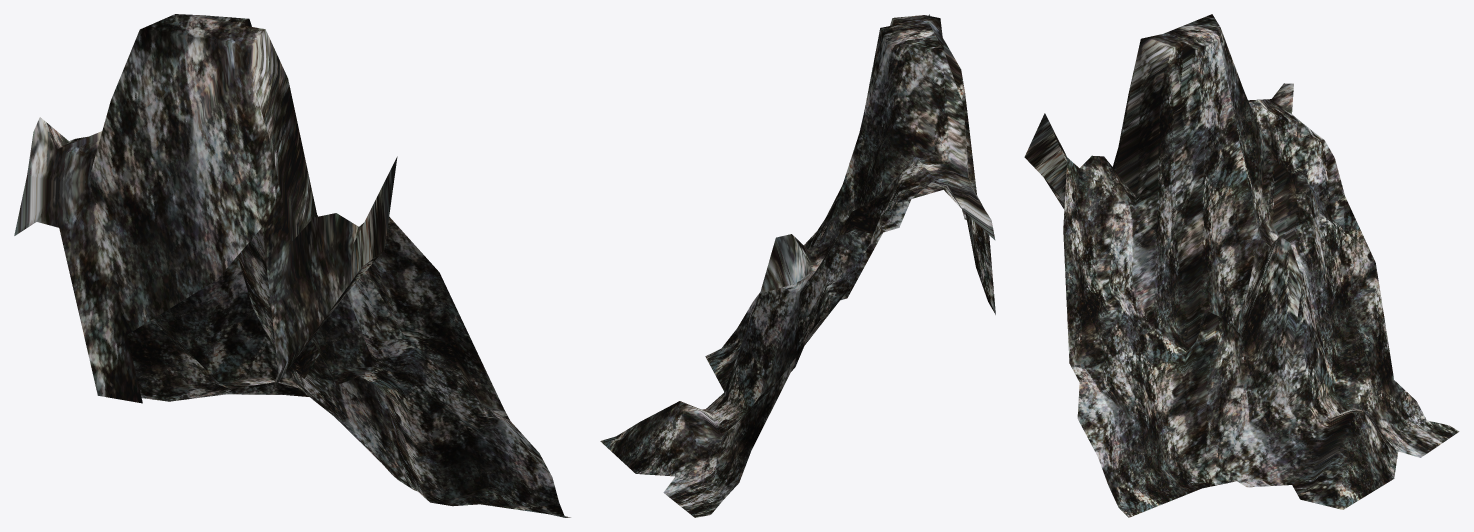
Rendered from OVERHILL_A_01_MOUN1_OBJECT146.fbx.
3 renders of one model, left to right at view 1: azimuth 30°, elevation 25°; view 2: azimuth 150°, elevation 25°; view 3: azimuth 270°, elevation 25°, orthographic. The views are drawn at different scales.
Visible parts, largest first — view 1: OVERHILL_A_01_MOUN1_OBJECT146; view 2: OVERHILL_A_01_MOUN1_OBJECT146; view 3: OVERHILL_A_01_MOUN1_OBJECT146.
Part boxes in pixels (x1,y1,x2,y2): OVERHILL_A_01_MOUN1_OBJECT146: (14,14,570,517); OVERHILL_A_01_MOUN1_OBJECT146: (600,14,995,517); OVERHILL_A_01_MOUN1_OBJECT146: (1024,14,1459,517).
Bounding box in the file's own units: 313833 × 342959 × 358654.
1 material, 1 textured.
